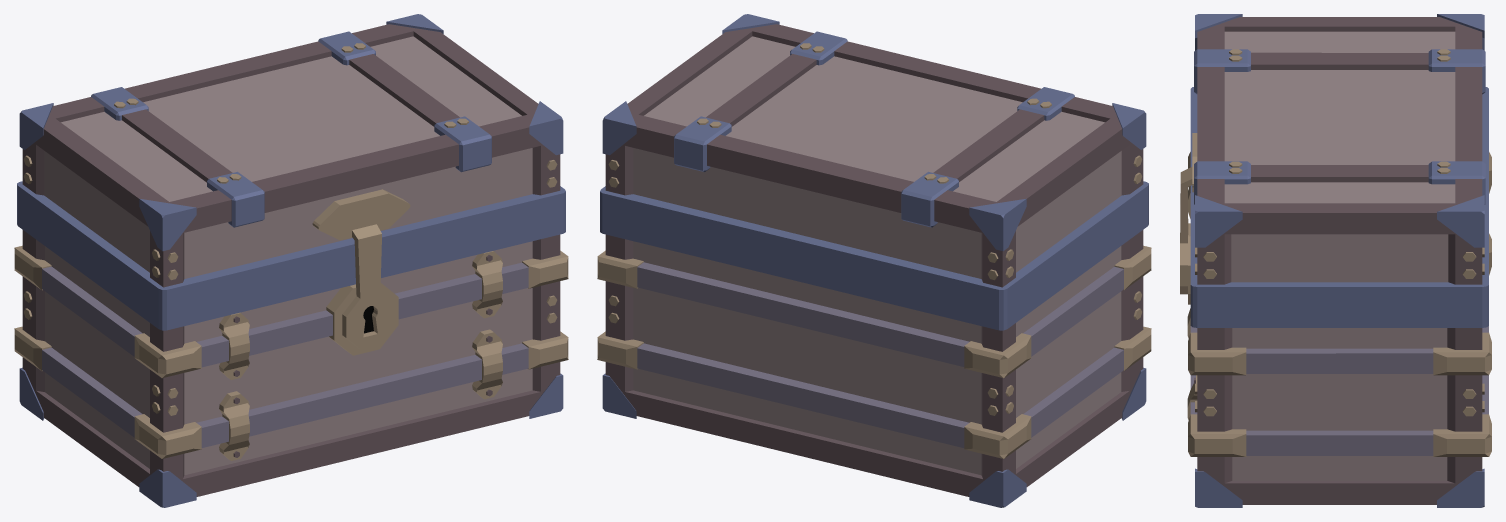
The model's file is Chest.fbx.
3 views of the same model, side by side, from view 1: azimuth 30°, elevation 25°; view 2: azimuth 150°, elevation 25°; view 3: azimuth 270°, elevation 25° (orthographic).
Visible parts, largest first — view 1: Cubo.034, Cubo.061, Cubo.040, Cubo.038, Cubo.062, Cubo.032, Cubo.020, Cubo.039, Cubo.037, Cilindro.056, Cubo.033, Cubo.035 (+3 smaller); view 2: Cubo.034, Cubo.061, Cubo.040, Cubo.038, Cubo.062, Cubo.032, Cubo.039, Cubo.037, Cubo.033, Cubo.036, Cubo.018; view 3: Cubo.061, Cubo.034, Cubo.040, Cubo.038, Cubo.062, Cubo.032, Cubo.039, Cubo.037, Cubo.033, Cubo.036, Cilindro.056, Cubo.018 (+1 smaller).
Boxes of the visible parts, <box> form: Cubo.034: <box>22,230,560,496</box>; Cubo.061: <box>44,36,532,278</box>; Cubo.040: <box>22,24,560,287</box>; Cubo.038: <box>17,181,565,330</box>; Cubo.062: <box>42,262,528,447</box>; Cubo.032: <box>14,245,568,458</box>; Cubo.020: <box>219,251,502,460</box>; Cubo.039: <box>91,31,491,227</box>; Cubo.037: <box>19,14,563,251</box>; Cilindro.056: <box>342,224,394,349</box>; Cubo.033: <box>19,367,563,507</box>; Cubo.035: <box>312,189,410,240</box>; Cubo.034: <box>605,230,1143,496</box>; Cubo.061: <box>633,36,1121,278</box>; Cubo.040: <box>605,24,1143,287</box>; Cubo.038: <box>600,181,1148,330</box>; Cubo.062: <box>637,262,1123,447</box>; Cubo.032: <box>597,245,1151,458</box>; Cubo.039: <box>674,31,1074,227</box>; Cubo.037: <box>602,14,1146,251</box>; Cubo.033: <box>602,367,1146,507</box>; Cubo.036: <box>608,43,1142,280</box>; Cubo.018: <box>608,291,1141,415</box>; Cubo.061: <box>1224,31,1455,282</box>; Cubo.034: <box>1197,328,1482,504</box>; Cubo.040: <box>1197,17,1482,284</box>; Cubo.038: <box>1190,87,1488,327</box>; Cubo.062: <box>1190,326,1488,455</box>; Cubo.032: <box>1188,152,1491,456</box>; Cubo.039: <box>1194,49,1485,204</box>; Cubo.037: <box>1195,14,1484,247</box>; Cubo.033: <box>1195,468,1484,507</box>; Cubo.036: <box>1195,49,1484,278</box>; Cilindro.056: <box>1180,167,1192,294</box>; Cubo.018: <box>1195,383,1484,416</box>.
Size of the model in its own units: 424 by 291 by 276.
